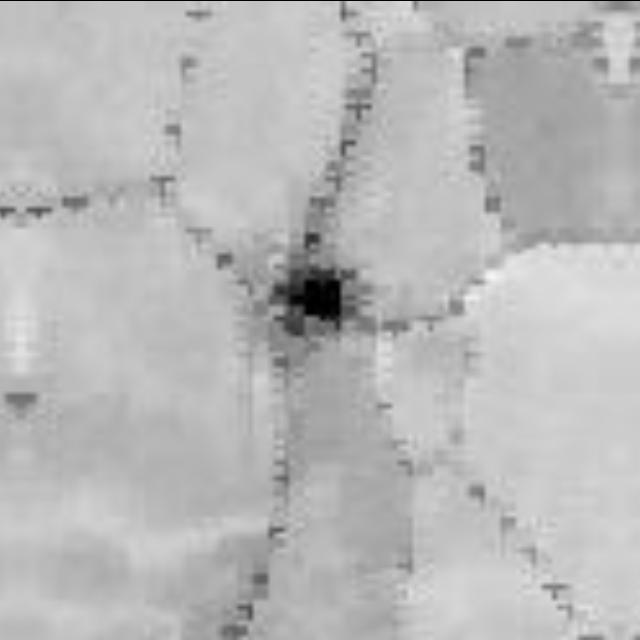good_void: (263, 255, 367, 346)
